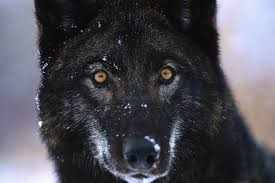Lobo: (29, 3, 215, 177)
